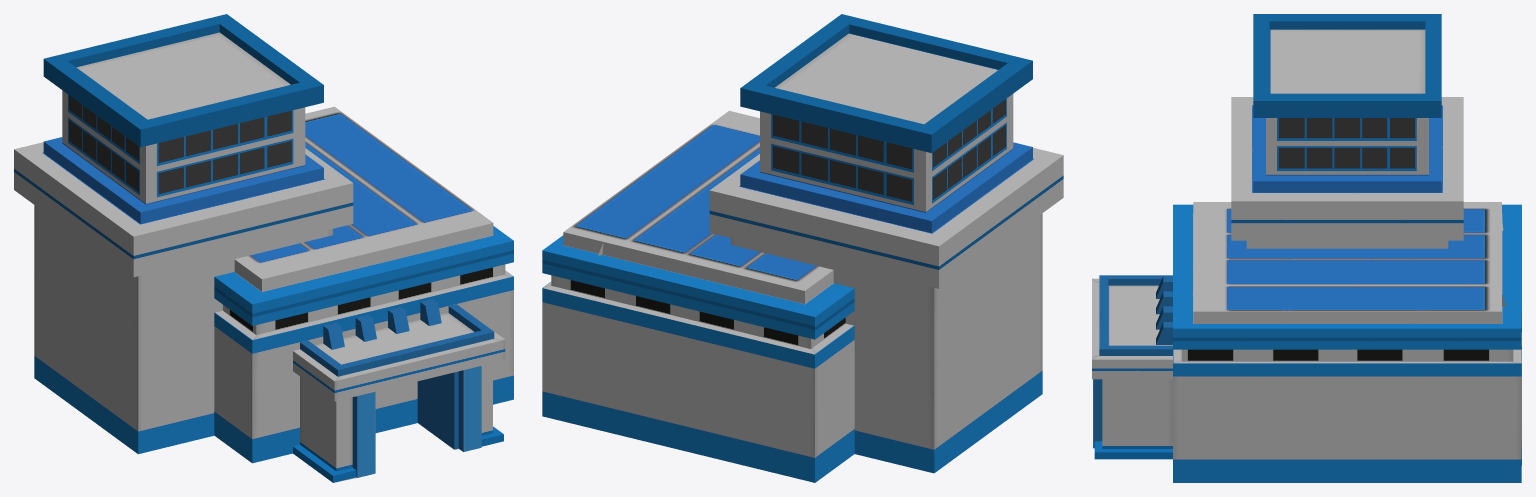
The model's file is Main Base.fbx.
3 views of the same model, side by side, from view 1: azimuth 30°, elevation 25°; view 2: azimuth 150°, elevation 25°; view 3: azimuth 270°, elevation 25° (orthographic). The views are drawn at different scales.
Visible parts, largest first — view 1: Cut_14, Cut_23, Cut_22, Cut_9, Cut_19, Cut_1, Cut_4, Cut_8, Cut_21, Cut_17, Cut_16, Cut_15 (+3 smaller); view 2: Cut_12, Cut_4, Cut_17, Cut_20, Cut_23, Cut_10, Cut_5, Cut_21, Cut_13, Cut_18, Cut_15, Cut_19 (+3 smaller); view 3: Cut_15, Cut_13, Cut_22, Cut_23, Cut_9, Cut_4, Cut_8, Cut_11, Cut_12, Cut_14, Cut_1, Cut_20 (+3 smaller).
Part boxes in pixels (bbox=[...]): Cut_14: bbox=[214, 219, 396, 463]; Cut_23: bbox=[91, 46, 323, 204]; Cut_22: bbox=[133, 148, 353, 277]; Cut_9: bbox=[363, 187, 513, 331]; Cut_19: bbox=[103, 300, 222, 454]; Cut_1: bbox=[293, 327, 440, 482]; Cut_4: bbox=[43, 14, 269, 163]; Cut_8: bbox=[405, 304, 505, 451]; Cut_21: bbox=[14, 141, 145, 277]; Cut_17: bbox=[34, 205, 78, 409]; Cut_16: bbox=[97, 229, 332, 330]; Cut_15: bbox=[320, 138, 444, 231]; Cut_12: bbox=[568, 217, 776, 458]; Cut_4: bbox=[740, 55, 990, 212]; Cut_17: bbox=[845, 266, 979, 473]; Cut_20: bbox=[709, 172, 938, 288]; Cut_23: bbox=[786, 14, 1032, 190]; Cut_10: bbox=[716, 352, 854, 482]; Cut_5: bbox=[744, 256, 854, 388]; Cut_21: bbox=[926, 147, 1063, 288]; Cut_13: bbox=[542, 199, 709, 422]; Cut_18: bbox=[731, 238, 1021, 439]; Cut_15: bbox=[608, 144, 759, 214]; Cut_19: bbox=[1005, 265, 1042, 408]; Cut_15: bbox=[1222, 250, 1419, 482]; Cut_13: bbox=[1399, 266, 1521, 482]; Cut_22: bbox=[1231, 97, 1463, 240]; Cut_23: bbox=[1253, 14, 1394, 175]; Cut_9: bbox=[1173, 256, 1293, 416]; Cut_4: bbox=[1332, 14, 1441, 175]; Cut_8: bbox=[1092, 322, 1172, 459]; Cut_11: bbox=[1173, 415, 1282, 482]; Cut_12: bbox=[1336, 217, 1521, 465]; Cut_14: bbox=[1173, 202, 1342, 272]; Cut_1: bbox=[1092, 275, 1172, 328]; Cut_20: bbox=[1429, 97, 1463, 200].
Size of the model in its own units: 346 by 302 by 378.
1 material, 1 textured.
